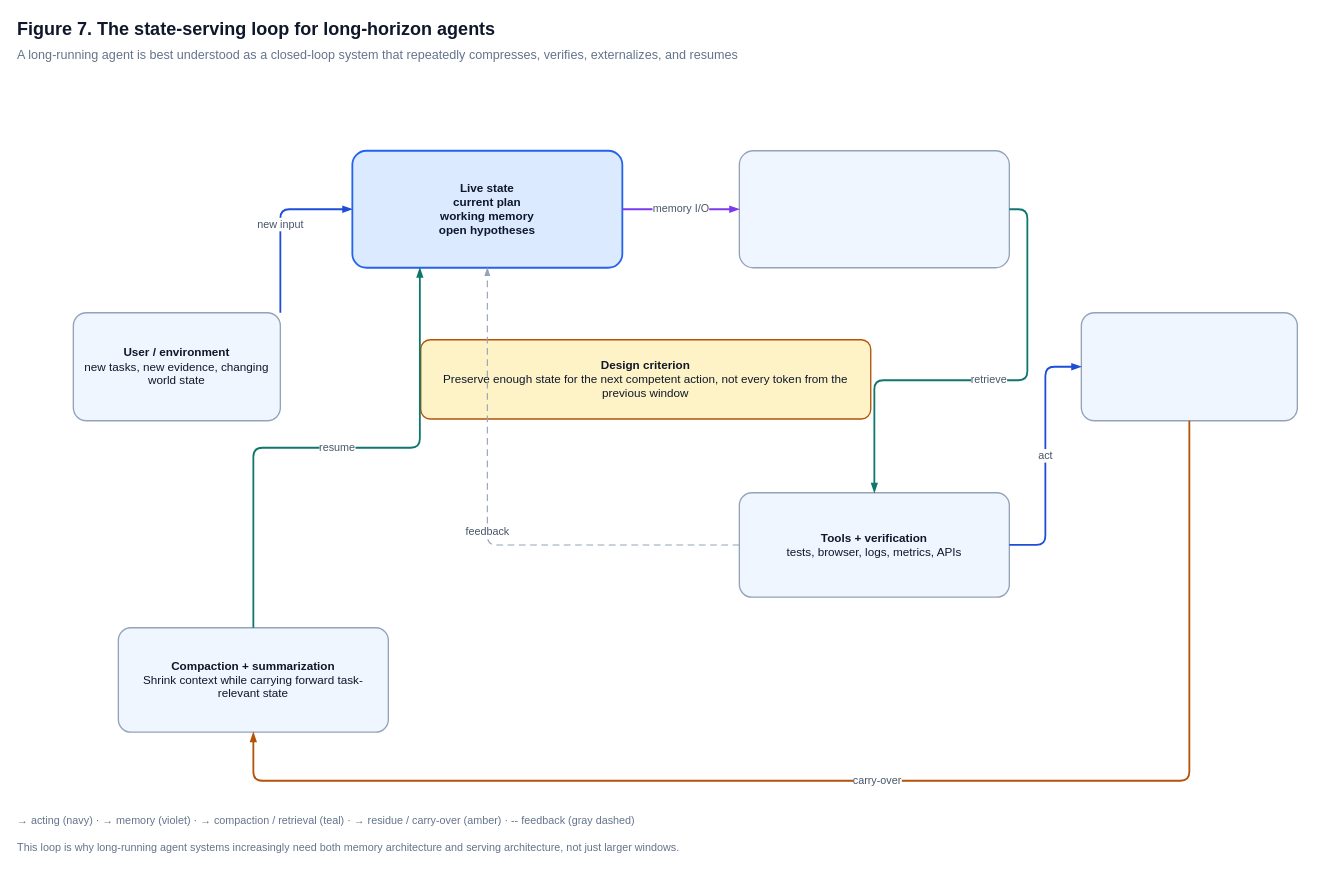
Some shapes in this 1336 by 869 pixel diagram are drawn without their labels. Here are the shapes that lost their labels. From the top down, the centre of each, then its label:
(x=874, y=209): External memory notes, artifacts, retrieval index, project docs
(x=1189, y=366): Response / action answers, code changes, decisions, tool side effects
